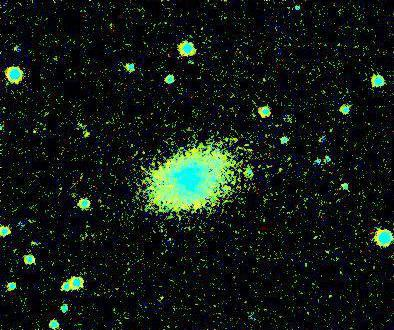star: (72, 119, 102, 149)
